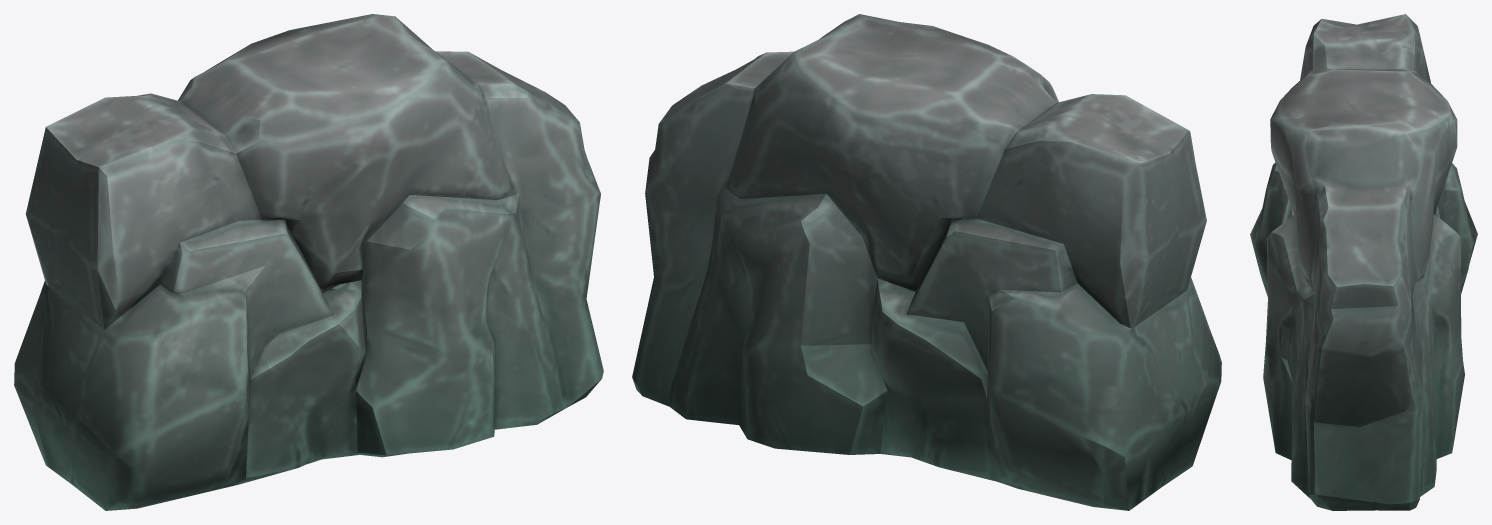
The model's file is Prop_Cliff_mossno_1.fbx.
3 renders of one model, left to right at view 1: azimuth 30°, elevation 25°; view 2: azimuth 150°, elevation 25°; view 3: azimuth 270°, elevation 25°, orthographic. The views are drawn at different scales.
Visible parts, largest first — view 1: brickbox; view 2: brickbox; view 3: brickbox.
Boxes of the visible parts, bbox=[...] form: brickbox: bbox=[14, 14, 603, 510]; brickbox: bbox=[632, 14, 1221, 510]; brickbox: bbox=[1250, 14, 1477, 510].
Bounding box in the file's own units: 358 × 248 × 160.
Materials: 1 (1 with a texture image).
